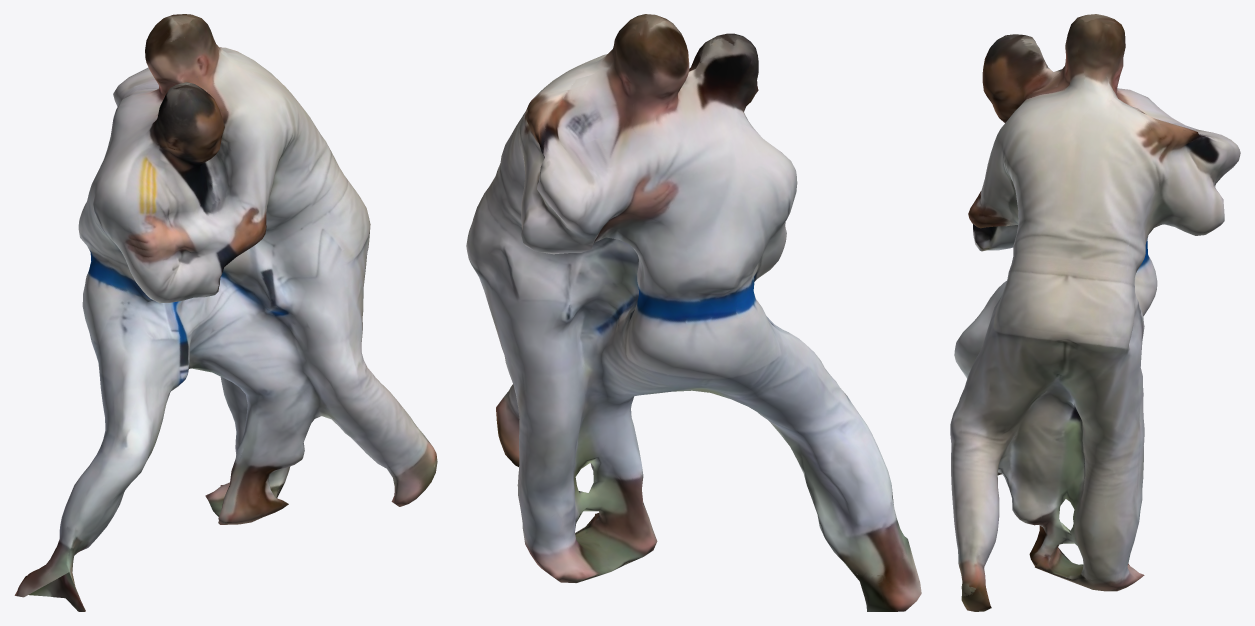
Rendered from hip-throw-3.glb.
3 renders of one model, left to right at view 1: azimuth 30°, elevation 25°; view 2: azimuth 150°, elevation 25°; view 3: azimuth 270°, elevation 25°, orthographic. The views are drawn at different scales.
Bounding box in the file's own units: 1.05 × 1.3 × 0.6301.
1 material, 1 textured.
